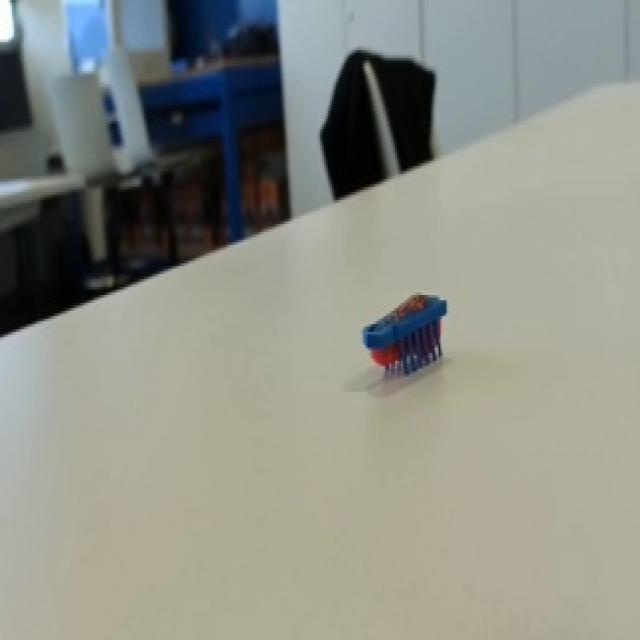1_NanoBug_Azul: (342, 274, 472, 409)
